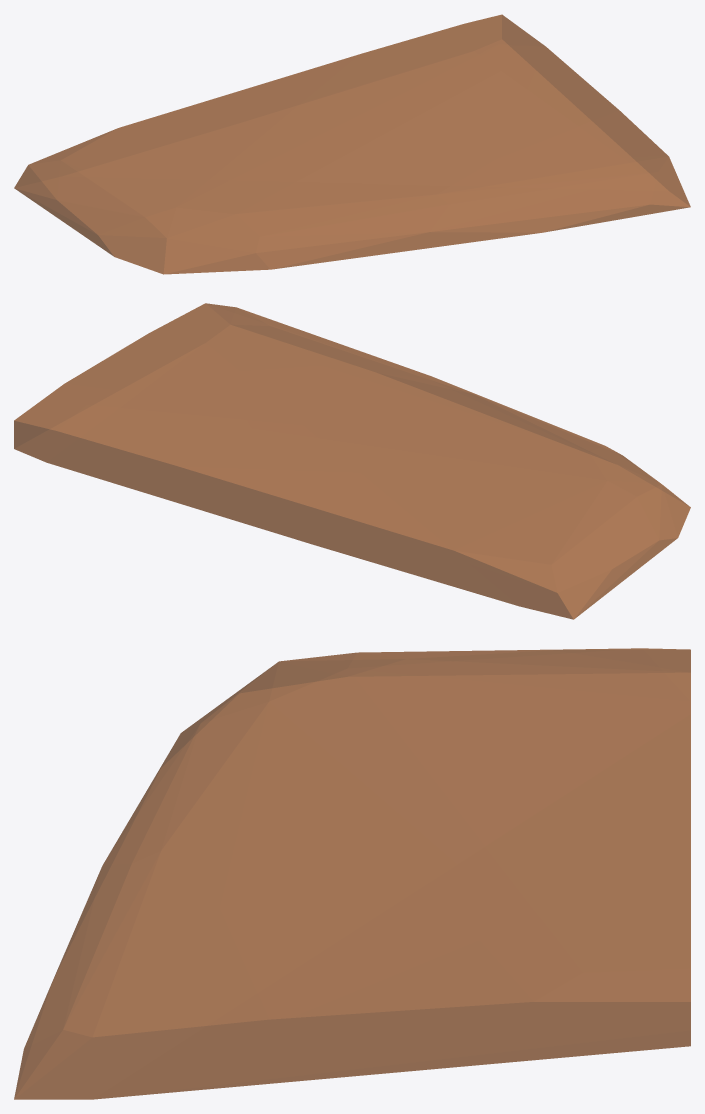
The picture shows the model from 3 angles, top to bottom: view 1: azimuth 30°, elevation 25°; view 2: azimuth 150°, elevation 25°; view 3: azimuth 270°, elevation 25°; orthographic projection. The views are drawn at different scales.
Visible parts, largest first — view 1: Shape_IndexedFaceSet.005_Shape_IndexedFaceSet.2966; view 2: Shape_IndexedFaceSet.005_Shape_IndexedFaceSet.2966; view 3: Shape_IndexedFaceSet.005_Shape_IndexedFaceSet.2966.
Boxes of the visible parts, x1,y1,x2,y2 form: Shape_IndexedFaceSet.005_Shape_IndexedFaceSet.2966: [14, 14, 690, 274]; Shape_IndexedFaceSet.005_Shape_IndexedFaceSet.2966: [14, 303, 690, 619]; Shape_IndexedFaceSet.005_Shape_IndexedFaceSet.2966: [14, 648, 690, 1099].
Bounding box in the file's own units: 0.2407 × 0.0257 × 0.1613.
